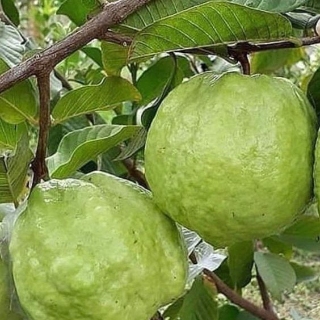oi: (144, 73, 315, 246), (12, 172, 188, 320)
